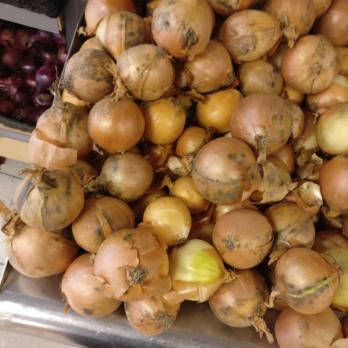Onion: (82, 1, 348, 326), (6, 104, 88, 277)
